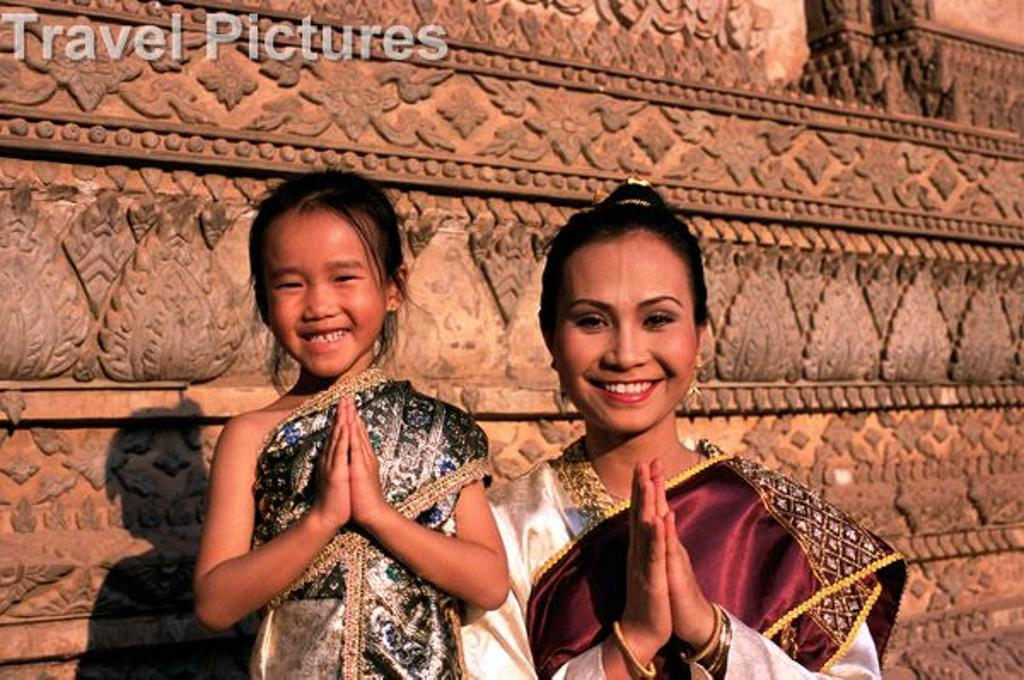face: (558, 244, 700, 434), (272, 214, 386, 374)
